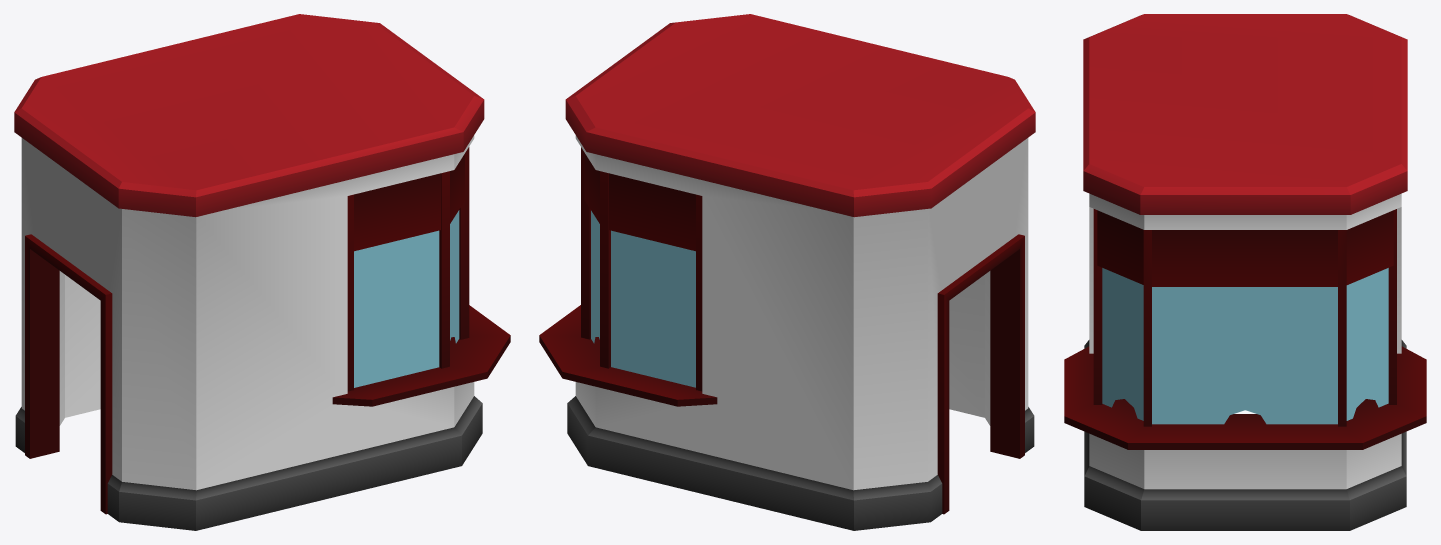
Rendered from TicketBooth.fbx.
3 views of the same model, side by side, from view 1: azimuth 30°, elevation 25°; view 2: azimuth 150°, elevation 25°; view 3: azimuth 270°, elevation 25° (orthographic).
Parts seen in each view (by area): view 1: TicketBooth; view 2: TicketBooth; view 3: TicketBooth.
Boxes of the visible parts, x1=… form: TicketBooth: x1=14, y1=14, x2=510, y2=530; TicketBooth: x1=539, y1=14, x2=1035, y2=530; TicketBooth: x1=1064, y1=14, x2=1426, y2=530.
Bounding box in the file's own units: 407 × 340 × 328.
